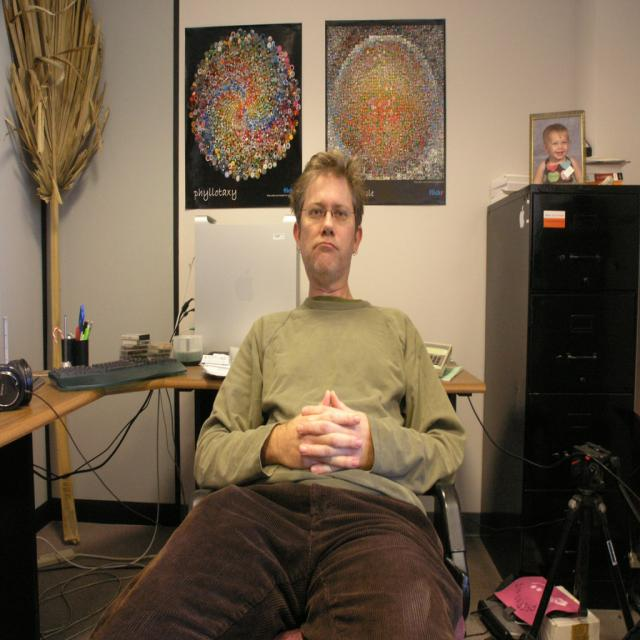desk: (1, 352, 147, 566)
keyboard: (49, 353, 186, 390)
person: (85, 147, 467, 640)
